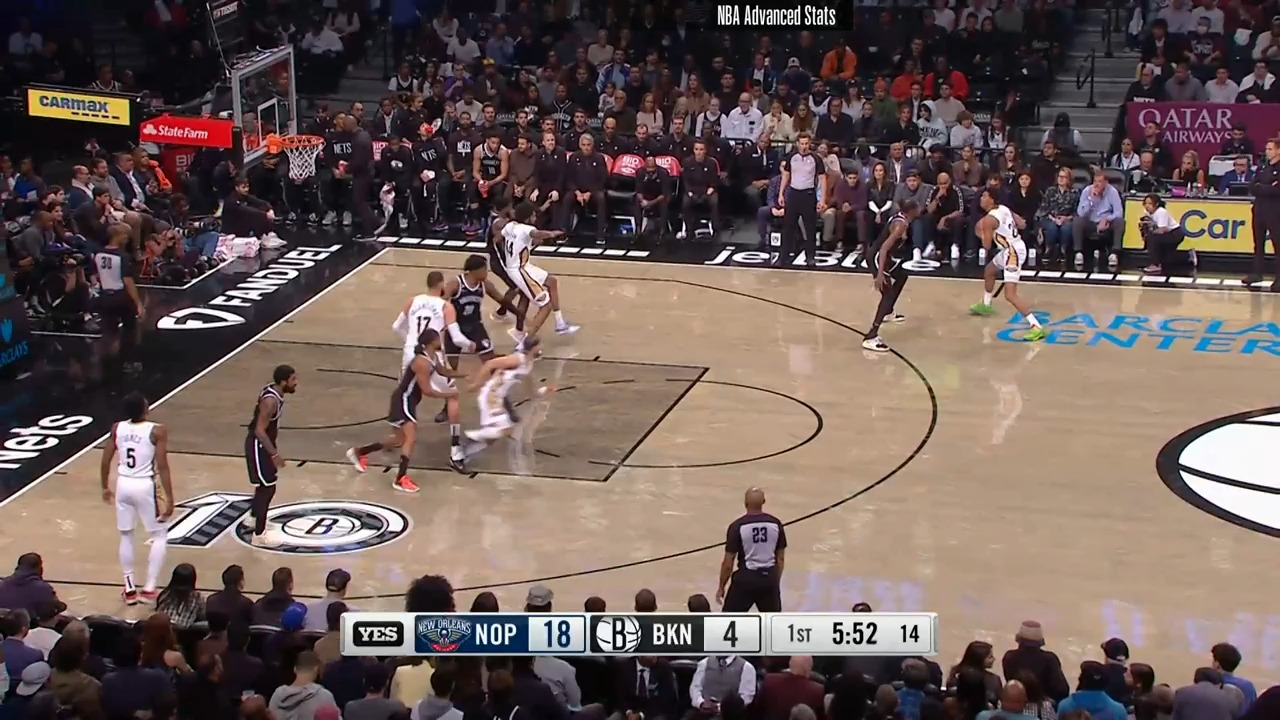net: (262, 129, 326, 183)
player: (354, 327, 475, 492), (99, 391, 182, 614), (237, 363, 308, 552), (453, 336, 545, 475), (385, 269, 462, 425), (501, 205, 581, 353), (970, 195, 1040, 321), (867, 201, 917, 349), (441, 256, 505, 361), (483, 201, 528, 345), (469, 129, 524, 239)
referee: (711, 488, 789, 617), (95, 225, 154, 386), (777, 133, 832, 270)
